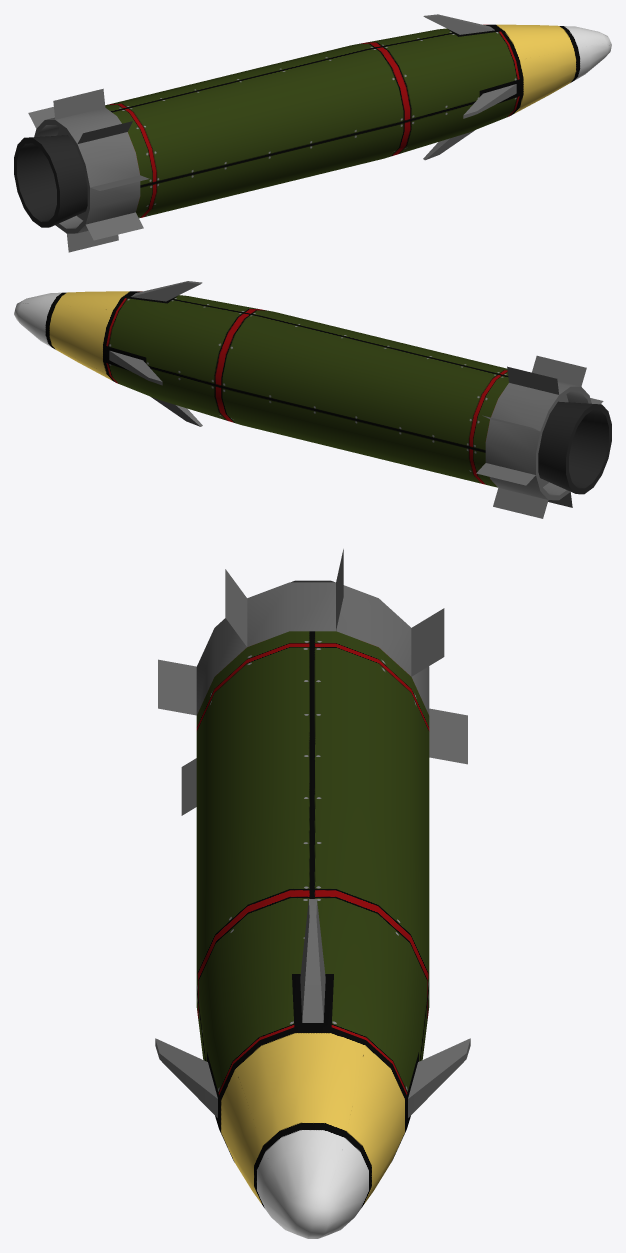
File: missle.fbx
3 views of the same model, one above another, from view 1: azimuth 30°, elevation 25°; view 2: azimuth 150°, elevation 25°; view 3: azimuth 270°, elevation 25° (orthographic). The views are drawn at different scales.
Parts seen in each view (by area): view 1: Cylinder; view 2: Cylinder; view 3: Cylinder.
Boxes of the visible parts, x1,y1,x2,y2 form: Cylinder: (14,14,611,252); Cylinder: (14,281,611,518); Cylinder: (155,549,470,1238).
Bounding box in the file's own units: 33546 × 7990 × 7990.
3 materials, 1 textured.
